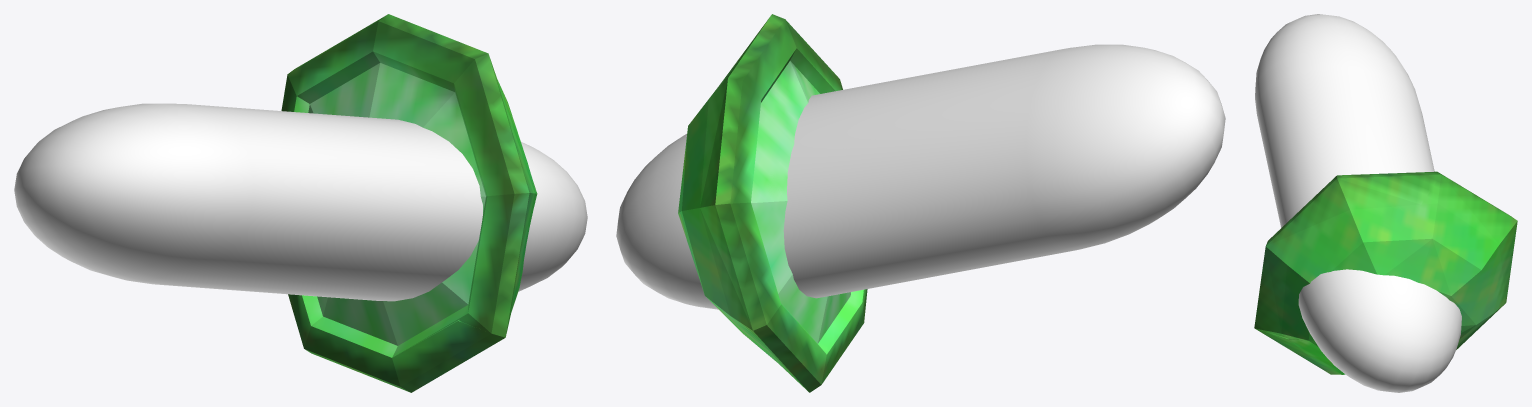
File: EdibleMushroomAnchor.fbx
3 renders of one model, left to right at view 1: azimuth 30°, elevation 25°; view 2: azimuth 150°, elevation 25°; view 3: azimuth 270°, elevation 25°, orthographic. The views are drawn at different scales.
Parts seen in each view (by area): view 1: EdibleMushroomInteractionPoint, Mushroom_Bite00, Mushroom_Bite01, Mushroom_Bite02; view 2: EdibleMushroomInteractionPoint, Mushroom_Bite00, Mushroom_Bite01; view 3: EdibleMushroomInteractionPoint, Mushroom_Bite00, Mushroom_Bite01, Mushroom_Bite02.
Part boxes in pixels (left/top/right/bottom): EdibleMushroomInteractionPoint: left=14, top=103, right=587, bottom=301; Mushroom_Bite00: left=281, top=14, right=537, bottom=392; Mushroom_Bite01: left=332, top=23, right=533, bottom=354; Mushroom_Bite02: left=346, top=107, right=491, bottom=386; EdibleMushroomInteractionPoint: left=616, top=44, right=1225, bottom=309; Mushroom_Bite00: left=678, top=14, right=863, bottom=392; Mushroom_Bite01: left=717, top=16, right=863, bottom=383; EdibleMushroomInteractionPoint: left=1255, top=14, right=1461, bottom=392; Mushroom_Bite00: left=1254, top=171, right=1517, bottom=346; Mushroom_Bite01: left=1276, top=174, right=1504, bottom=349; Mushroom_Bite02: left=1255, top=328, right=1345, bottom=374.
Bounding box in the file's own units: 25.93 × 15.14 × 14.25.
